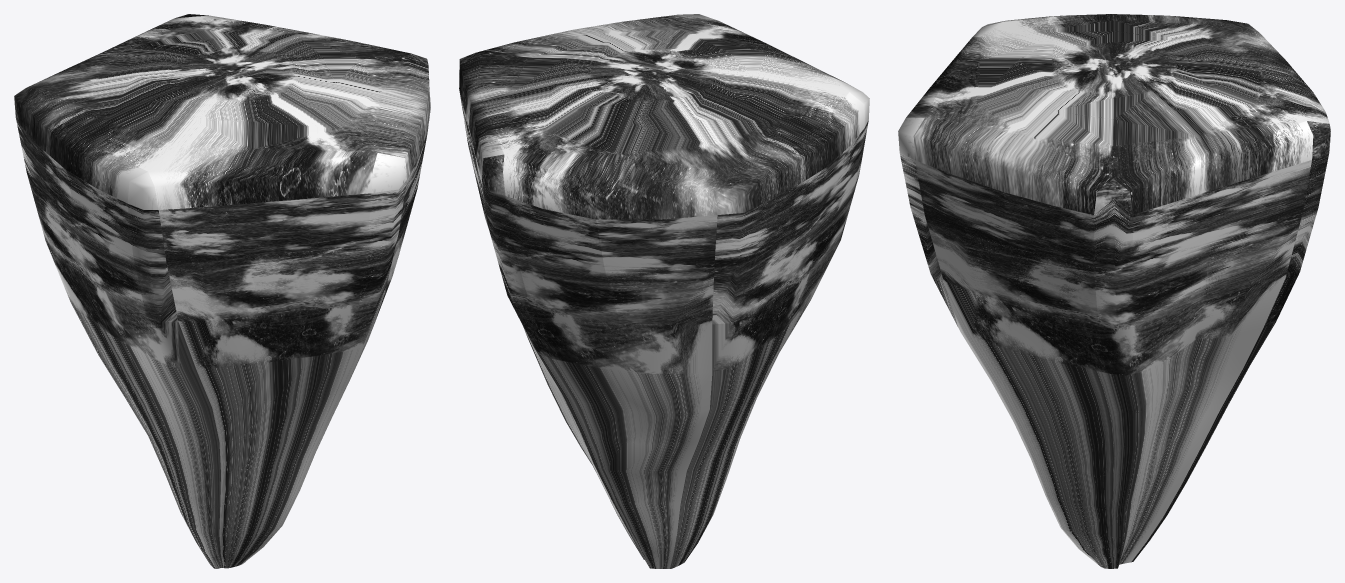
Rendered from NewHex.FBX.
The picture shows the model from 3 angles, left to right: view 1: azimuth 30°, elevation 25°; view 2: azimuth 150°, elevation 25°; view 3: azimuth 270°, elevation 25°; orthographic projection. The views are drawn at different scales.
Visible parts, largest first — view 1: Hex; view 2: Hex; view 3: Hex.
Boxes of the visible parts, x1,y1,x2,y2 form: Hex: (14, 14, 430, 568); Hex: (459, 14, 869, 568); Hex: (898, 14, 1330, 568).
Size of the model in its own units: 8.01 by 10.26 by 8.07.
